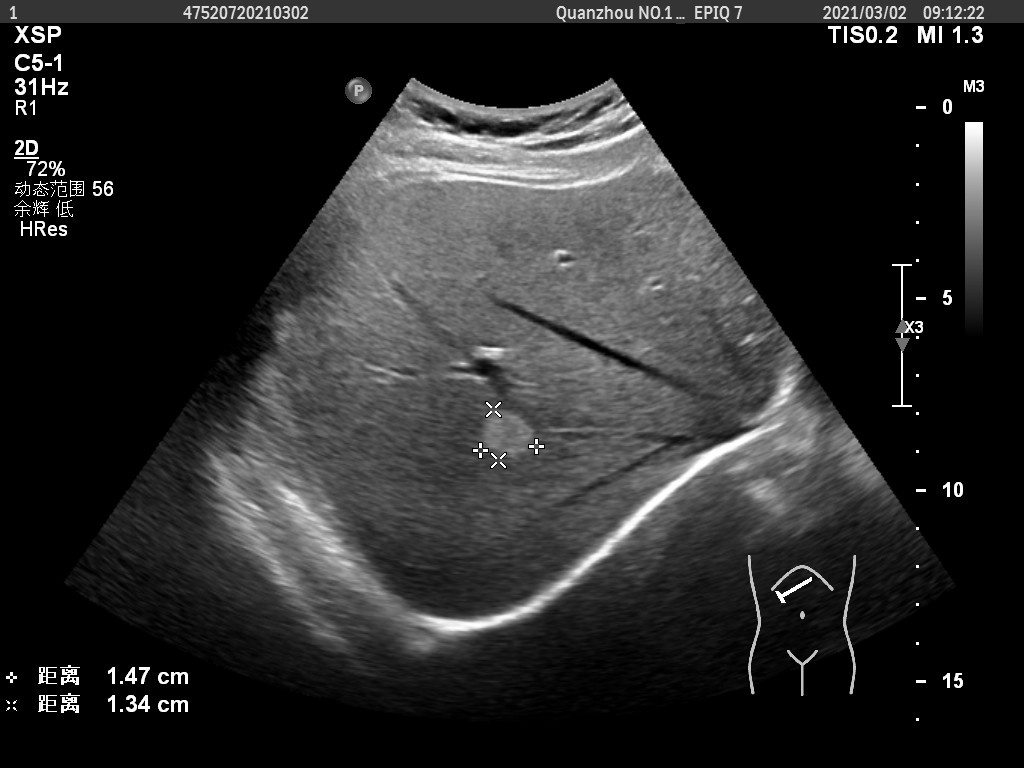肌瘤: (481, 414, 533, 465)
